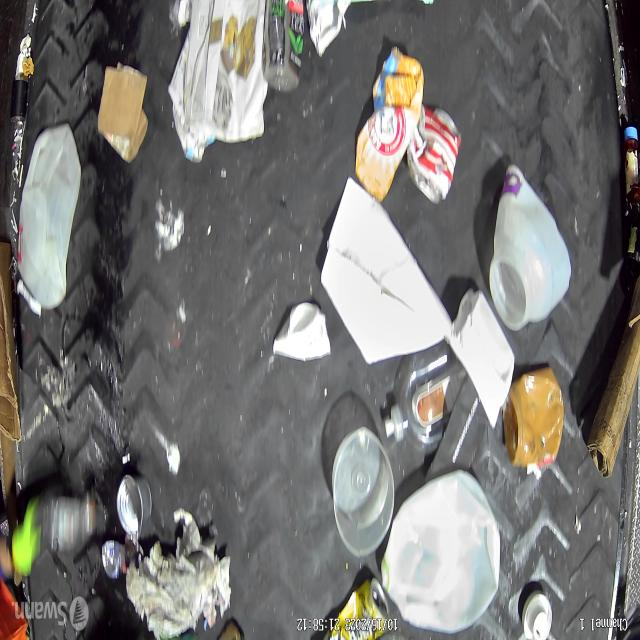can: (406, 105, 461, 206), (322, 575, 389, 640), (114, 472, 152, 539)
milk_jug: (380, 465, 502, 637), (16, 120, 82, 314)
